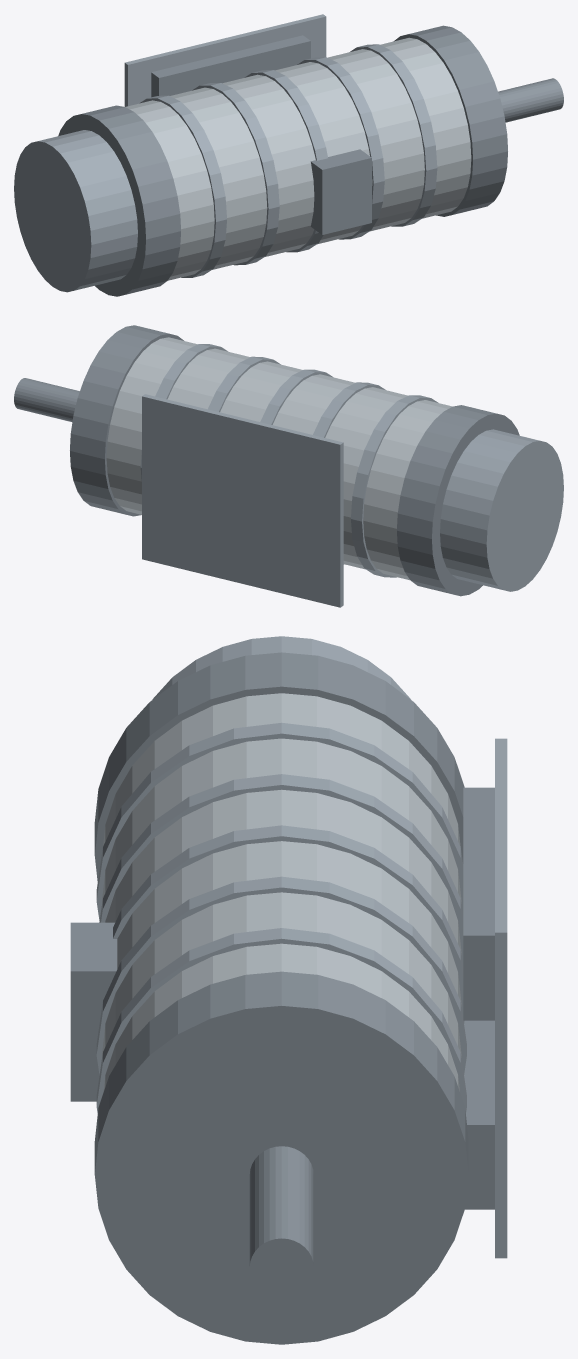
File: iec_63_b3.glb
The picture shows the model from 3 angles, top to bottom: view 1: azimuth 30°, elevation 25°; view 2: azimuth 150°, elevation 25°; view 3: azimuth 270°, elevation 25°; orthographic projection. The views are drawn at different scales.
Visible parts, largest first — view 1: iec_63_b3; view 2: iec_63_b3; view 3: iec_63_b3.
Part boxes in pixels (x1,y1,x2,y2): iec_63_b3: (14, 14, 563, 296); iec_63_b3: (14, 325, 563, 607); iec_63_b3: (70, 636, 507, 1344).
Bounding box in the file's own units: 1.81 × 0.5824 × 0.6804.
